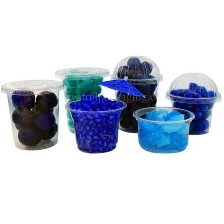glass: (0, 73, 68, 153), (106, 50, 165, 134), (52, 60, 113, 140), (64, 94, 129, 157), (163, 71, 224, 138), (128, 102, 197, 159)
